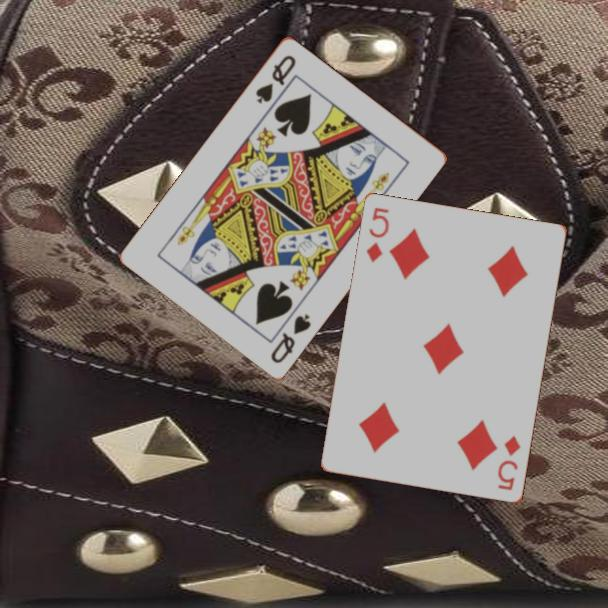d05: (494, 432, 524, 493), (363, 204, 392, 266)
s12: (267, 309, 314, 366), (252, 51, 299, 106)
